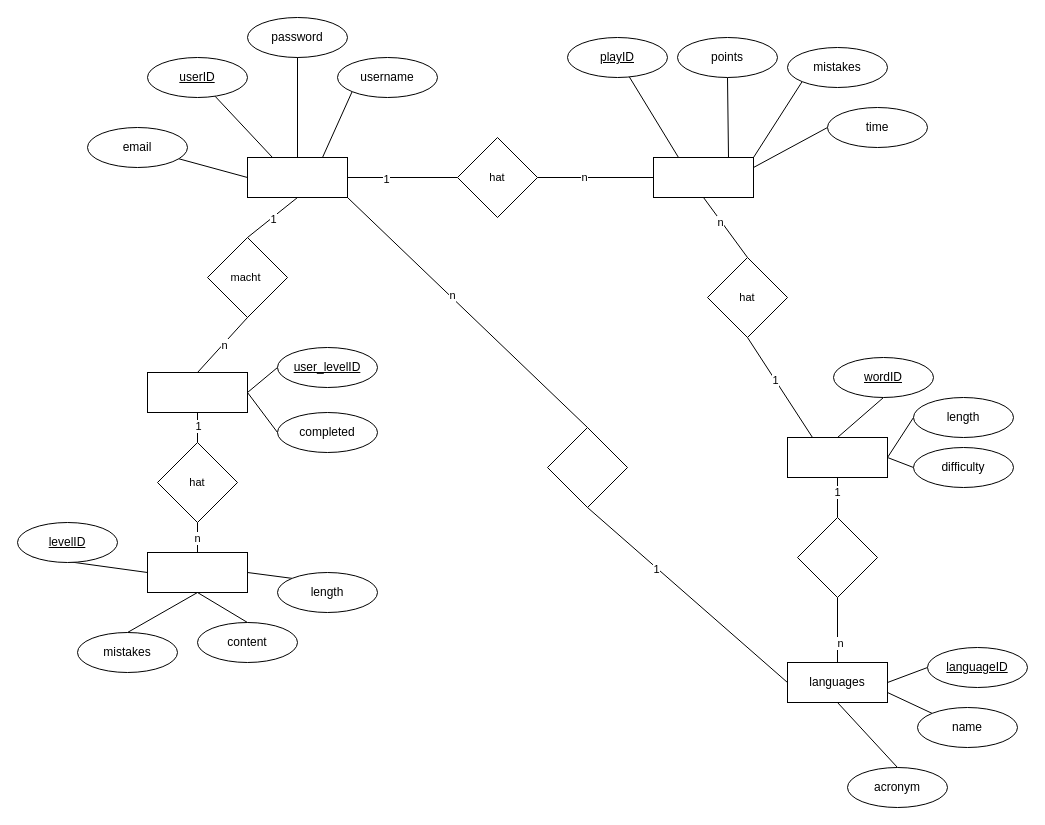
This 1045x825 diagram has some shape labels left out. Each missing label, with the centre of its shape:
"haben" belongs at [587,467].
"ist in" belongs at [837,557].
"levels" belongs at [197,572].
"plays" belongs at [703,177].
"user_level" belongs at [197,392].
"users" belongs at [297,177].
"wordlist" belongs at [837,457].
